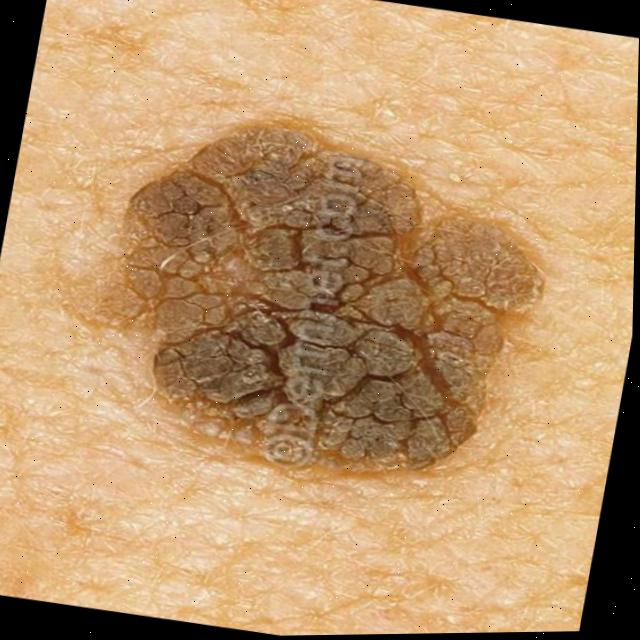Eczema: (105, 123, 527, 462)
